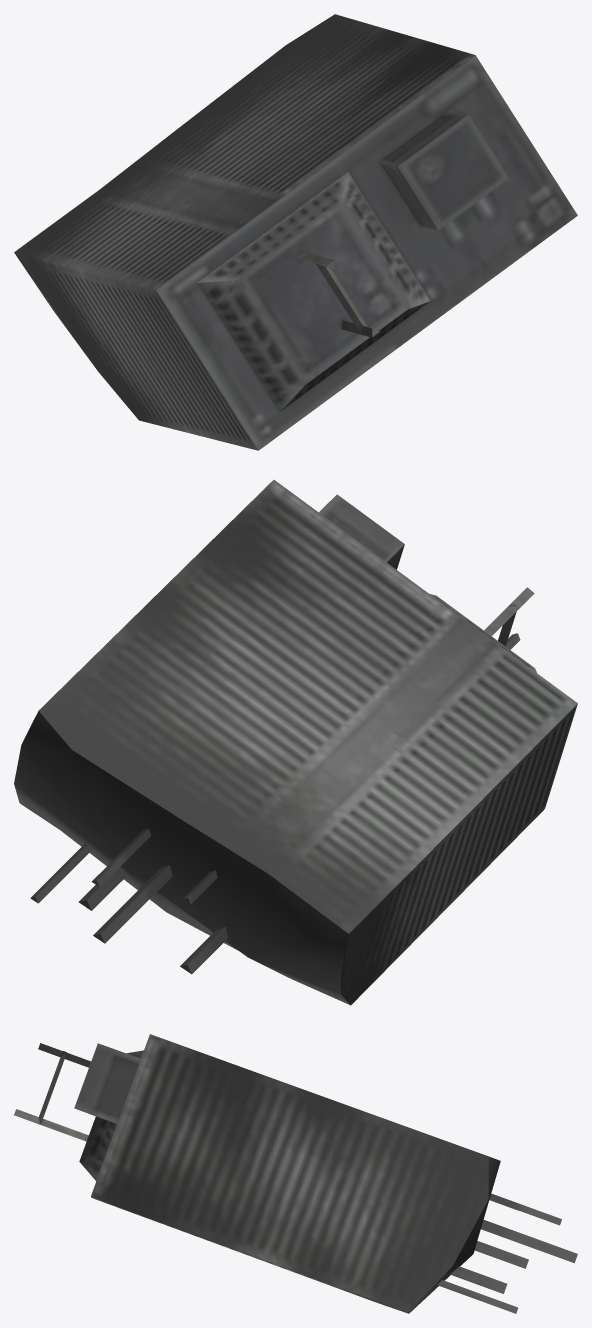
The model's file is skyBuildingAAC_pos_grp (28).fbx.
The picture shows the model from 3 angles, top to bottom: view 1: azimuth 30°, elevation 25°; view 2: azimuth 150°, elevation 25°; view 3: azimuth 270°, elevation 25°; orthographic projection. The views are drawn at different scales.
Parts seen in each view (by area): view 1: skyBuildingAAC_geo; view 2: skyBuildingAAC_geo; view 3: skyBuildingAAC_geo.
Boxes of the visible parts, bbox=[...] form: skyBuildingAAC_geo: bbox=[14, 14, 577, 450]; skyBuildingAAC_geo: bbox=[14, 480, 577, 1005]; skyBuildingAAC_geo: bbox=[14, 1034, 577, 1313].
Bounding box in the file's own units: 6.83 × 6.07 × 8.7.
